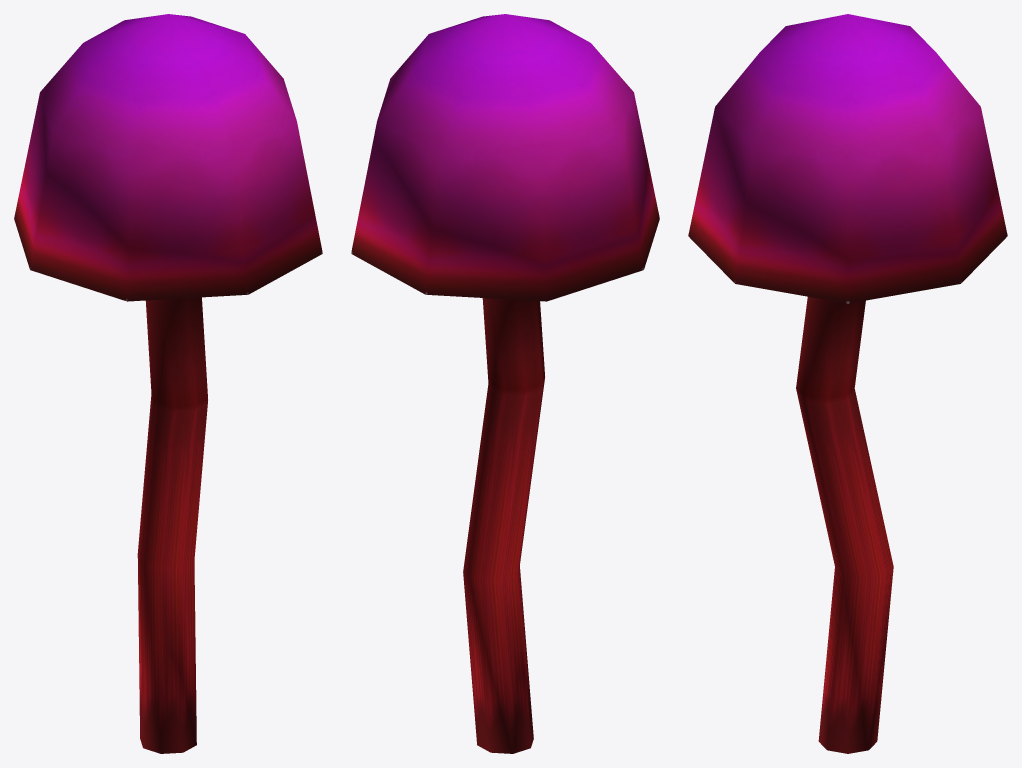
File: Mushroom08.fbx
3 views of the same model, side by side, from view 1: azimuth 30°, elevation 25°; view 2: azimuth 150°, elevation 25°; view 3: azimuth 270°, elevation 25° (orthographic).
Visible parts, largest first — view 1: Mushroom08; view 2: Mushroom08; view 3: Mushroom08.
Boxes of the visible parts, x1=… form: Mushroom08: x1=14, y1=14, x2=322, y2=753; Mushroom08: x1=351, y1=14, x2=659, y2=753; Mushroom08: x1=688, y1=14, x2=1007, y2=753.
Size of the model in its own units: 0.4535 by 1.14 by 0.4535.
